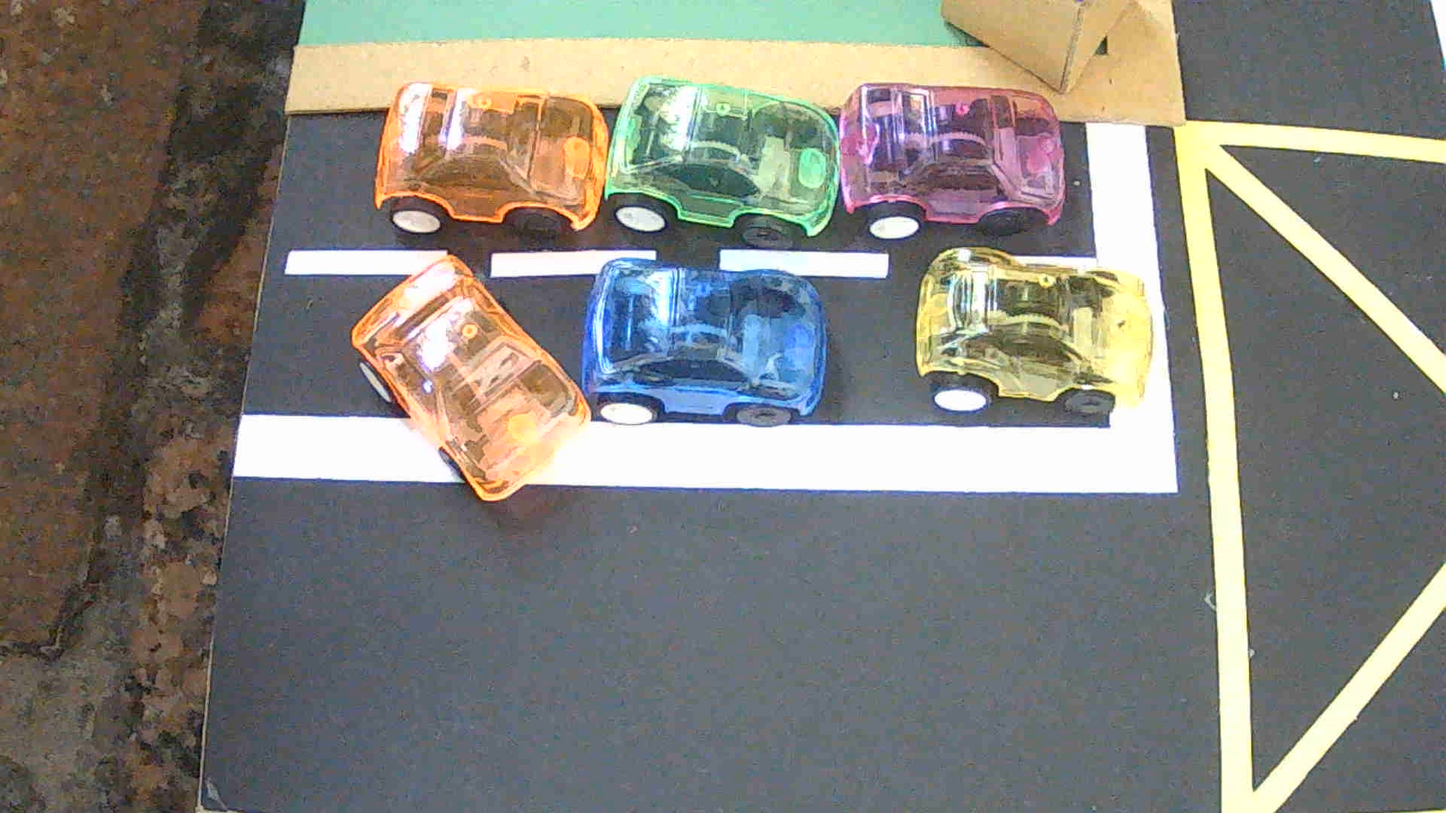Mobil biru: (581, 258, 826, 426)
Mobil hijau: (605, 77, 839, 247)
Mobil kuning: (915, 248, 1153, 418)
Mobil orange: (351, 254, 590, 500), (374, 82, 609, 236)
Mobil ungu: (838, 83, 1064, 239)
